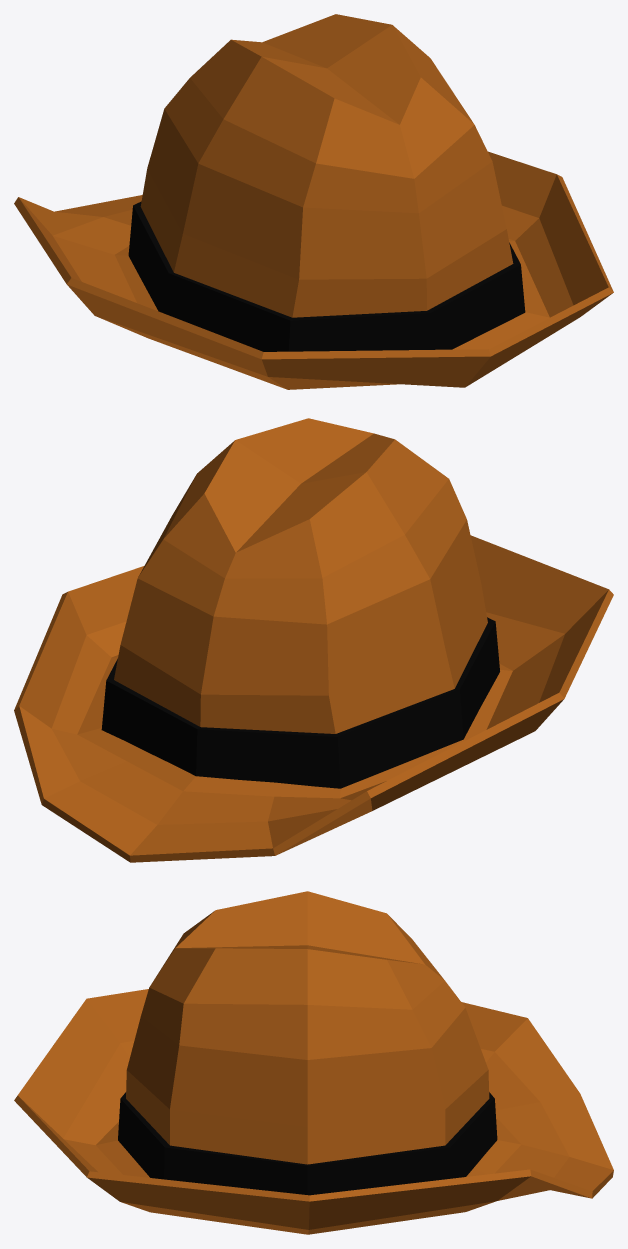
File: Cowboy.fbx
3 renders of one model, top to bottom at view 1: azimuth 30°, elevation 25°; view 2: azimuth 150°, elevation 25°; view 3: azimuth 270°, elevation 25°, orthographic. The views are drawn at different scales.
Visible parts, largest first — view 1: cap_cap:Mesh; view 2: cap_cap:Mesh; view 3: cap_cap:Mesh.
Part boxes in pixels (x1,y1,x2,y2): cap_cap:Mesh: (14,14,613,389); cap_cap:Mesh: (14,418,613,862); cap_cap:Mesh: (14,891,613,1234).
Size of the model in its own units: 1.54 by 0.8337 by 1.77.
